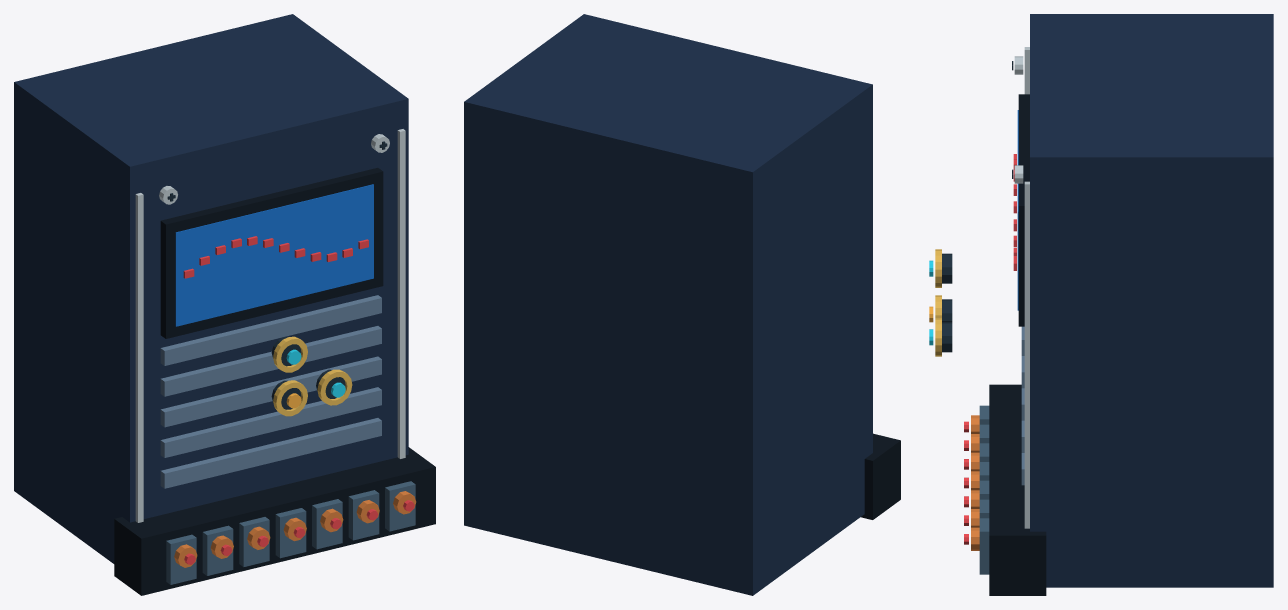
The model's file is 65_L83_IndependentUndervoltageProtector.fbx.
3 renders of one model, left to right at view 1: azimuth 30°, elevation 25°; view 2: azimuth 150°, elevation 25°; view 3: azimuth 270°, elevation 25°, orthographic. The views are drawn at different scales.
Parts seen in each view (by area): view 1: IndependentUndervoltageProtector; view 2: IndependentUndervoltageProtector; view 3: IndependentUndervoltageProtector.
Part boxes in pixels (box(x1,y1,x2,y2)): IndependentUndervoltageProtector: box(14, 14, 435, 595); IndependentUndervoltageProtector: box(464, 14, 900, 595); IndependentUndervoltageProtector: box(929, 14, 1273, 595).
Bounding box in the file's own units: 113 × 152 × 109.
